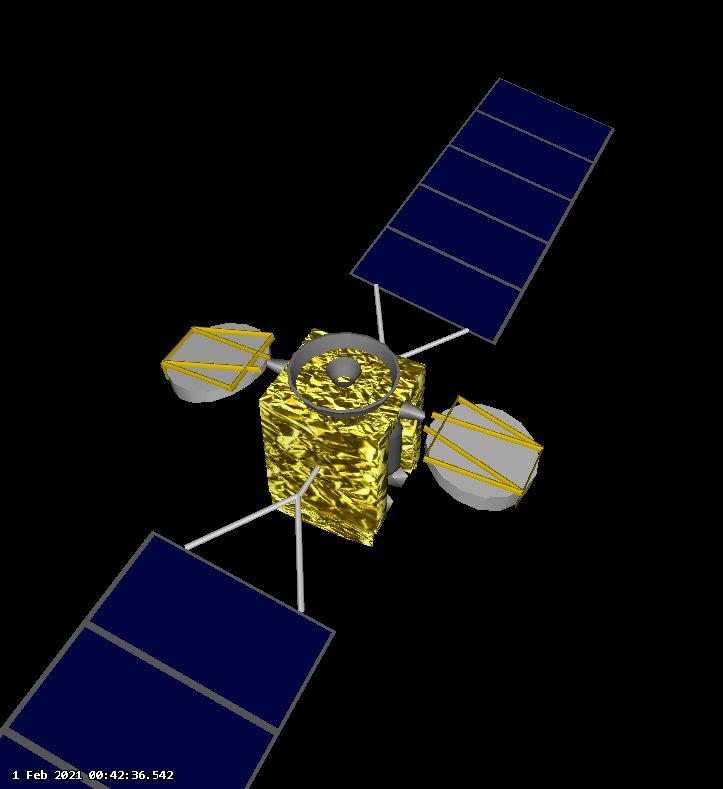antenna: (423, 399, 542, 509), (166, 319, 271, 405)
body: (256, 323, 423, 546)
solar: (0, 529, 337, 789), (348, 75, 617, 347)
thruster: (324, 353, 365, 386)
